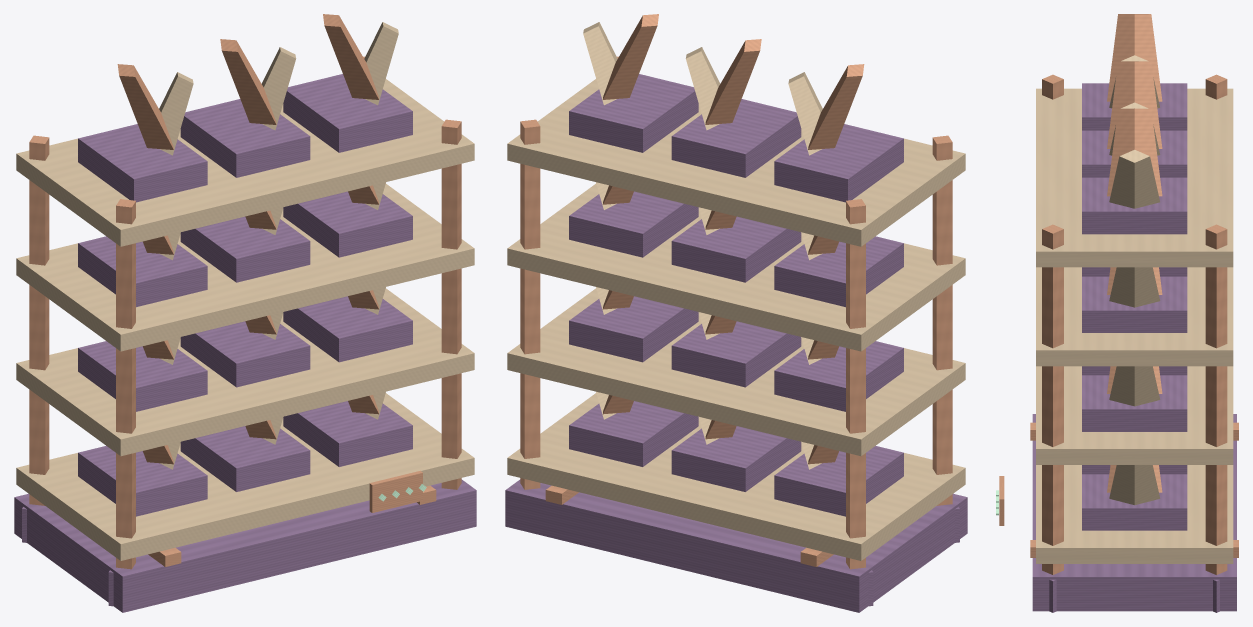
File: atlas100-s085-a01.glb
The picture shows the model from 3 angles, left to right: view 1: azimuth 30°, elevation 25°; view 2: azimuth 150°, elevation 25°; view 3: azimuth 270°, elevation 25°; orthographic projection. The views are drawn at different scales.
Visible parts, largest first — view 1: atlas100-s085-a01:part-000, atlas100-s085-a01:part-041, atlas100-s085-a01:part-031, atlas100-s085-a01:part-021, atlas100-s085-a01:part-011, atlas100-s085-a01:part-042, atlas100-s085-a01:part-045, atlas100-s085-a01:part-048, atlas100-s085-a01:part-009, atlas100-s085-a01:part-005, atlas100-s085-a01:part-025, atlas100-s085-a01:part-015 (+15 smaller); view 2: atlas100-s085-a01:part-000, atlas100-s085-a01:part-041, atlas100-s085-a01:part-011, atlas100-s085-a01:part-031, atlas100-s085-a01:part-021, atlas100-s085-a01:part-042, atlas100-s085-a01:part-045, atlas100-s085-a01:part-048, atlas100-s085-a01:part-007, atlas100-s085-a01:part-003, atlas100-s085-a01:part-025, atlas100-s085-a01:part-015 (+14 smaller); view 3: atlas100-s085-a01:part-041, atlas100-s085-a01:part-000, atlas100-s085-a01:part-031, atlas100-s085-a01:part-011, atlas100-s085-a01:part-021, atlas100-s085-a01:part-007, atlas100-s085-a01:part-009, atlas100-s085-a01:part-048, atlas100-s085-a01:part-018, atlas100-s085-a01:part-028, atlas100-s085-a01:part-038, atlas100-s085-a01:part-042 (+13 smaller).
Boxes of the visible parts, box(x1,y1,x2,y2) form: atlas100-s085-a01:part-000: box(14, 479, 476, 612); atlas100-s085-a01:part-041: box(16, 79, 474, 246); atlas100-s085-a01:part-031: box(16, 183, 474, 351); atlas100-s085-a01:part-021: box(16, 288, 474, 456); atlas100-s085-a01:part-011: box(16, 393, 474, 560); atlas100-s085-a01:part-042: box(78, 124, 207, 202); atlas100-s085-a01:part-045: box(180, 99, 310, 177); atlas100-s085-a01:part-048: box(283, 74, 412, 152); atlas100-s085-a01:part-009: box(441, 119, 461, 489); atlas100-s085-a01:part-005: box(116, 199, 135, 569); atlas100-s085-a01:part-025: box(180, 321, 310, 387); atlas100-s085-a01:part-015: box(180, 426, 310, 491); atlas100-s085-a01:part-000: box(505, 479, 967, 612); atlas100-s085-a01:part-041: box(507, 79, 965, 246); atlas100-s085-a01:part-011: box(507, 393, 965, 560); atlas100-s085-a01:part-031: box(507, 183, 965, 351); atlas100-s085-a01:part-021: box(507, 288, 965, 456); atlas100-s085-a01:part-042: box(774, 124, 903, 202); atlas100-s085-a01:part-045: box(671, 99, 801, 177); atlas100-s085-a01:part-048: box(569, 74, 698, 152); atlas100-s085-a01:part-007: box(520, 119, 540, 489); atlas100-s085-a01:part-003: box(846, 199, 865, 569); atlas100-s085-a01:part-025: box(671, 321, 801, 387); atlas100-s085-a01:part-015: box(671, 426, 801, 491); atlas100-s085-a01:part-041: box(1036, 88, 1233, 267); atlas100-s085-a01:part-000: box(1032, 414, 1236, 611); atlas100-s085-a01:part-031: box(1036, 267, 1233, 366); atlas100-s085-a01:part-011: box(1036, 465, 1233, 563); atlas100-s085-a01:part-021: box(1036, 366, 1233, 464); atlas100-s085-a01:part-007: box(1205, 224, 1227, 574); atlas100-s085-a01:part-009: box(1042, 224, 1063, 574); atlas100-s085-a01:part-048: box(1082, 177, 1187, 234); atlas100-s085-a01:part-018: box(1082, 474, 1187, 530); atlas100-s085-a01:part-028: box(1082, 375, 1187, 431); atlas100-s085-a01:part-038: box(1082, 276, 1187, 332); atlas100-s085-a01:part-042: box(1082, 83, 1187, 130).
Bounding box in the file's own units: 2.69 × 3.51 × 1.66.
4 materials, 4 textured.
